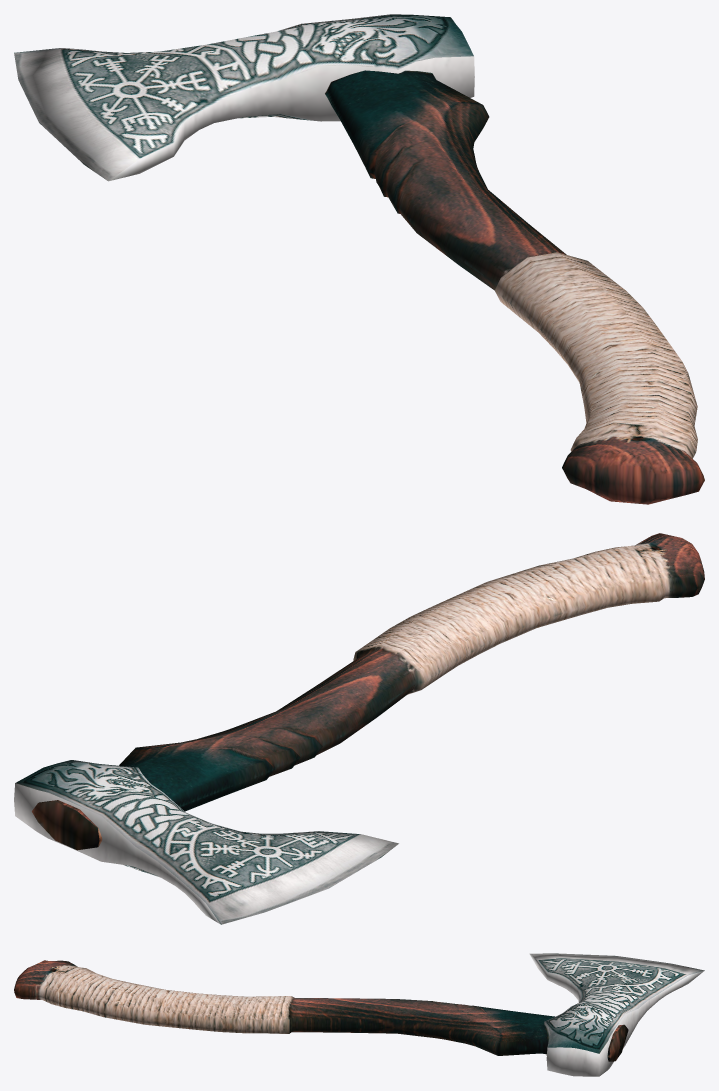
File: a_viking_axe.glb
The picture shows the model from 3 angles, top to bottom: view 1: azimuth 30°, elevation 25°; view 2: azimuth 150°, elevation 25°; view 3: azimuth 270°, elevation 25°; orthographic projection. The views are drawn at different scales.
Visible parts, largest first — view 1: Object_2; view 2: Object_2; view 3: Object_2.
Part boxes in pixels (bbox=[...]): Object_2: bbox=[14, 14, 704, 504]; Object_2: bbox=[14, 533, 704, 924]; Object_2: bbox=[14, 953, 704, 1076].
Size of the model in its own units: 0.3036 by 0.0551 by 0.7905.
Materials: 1 (1 with a texture image).
